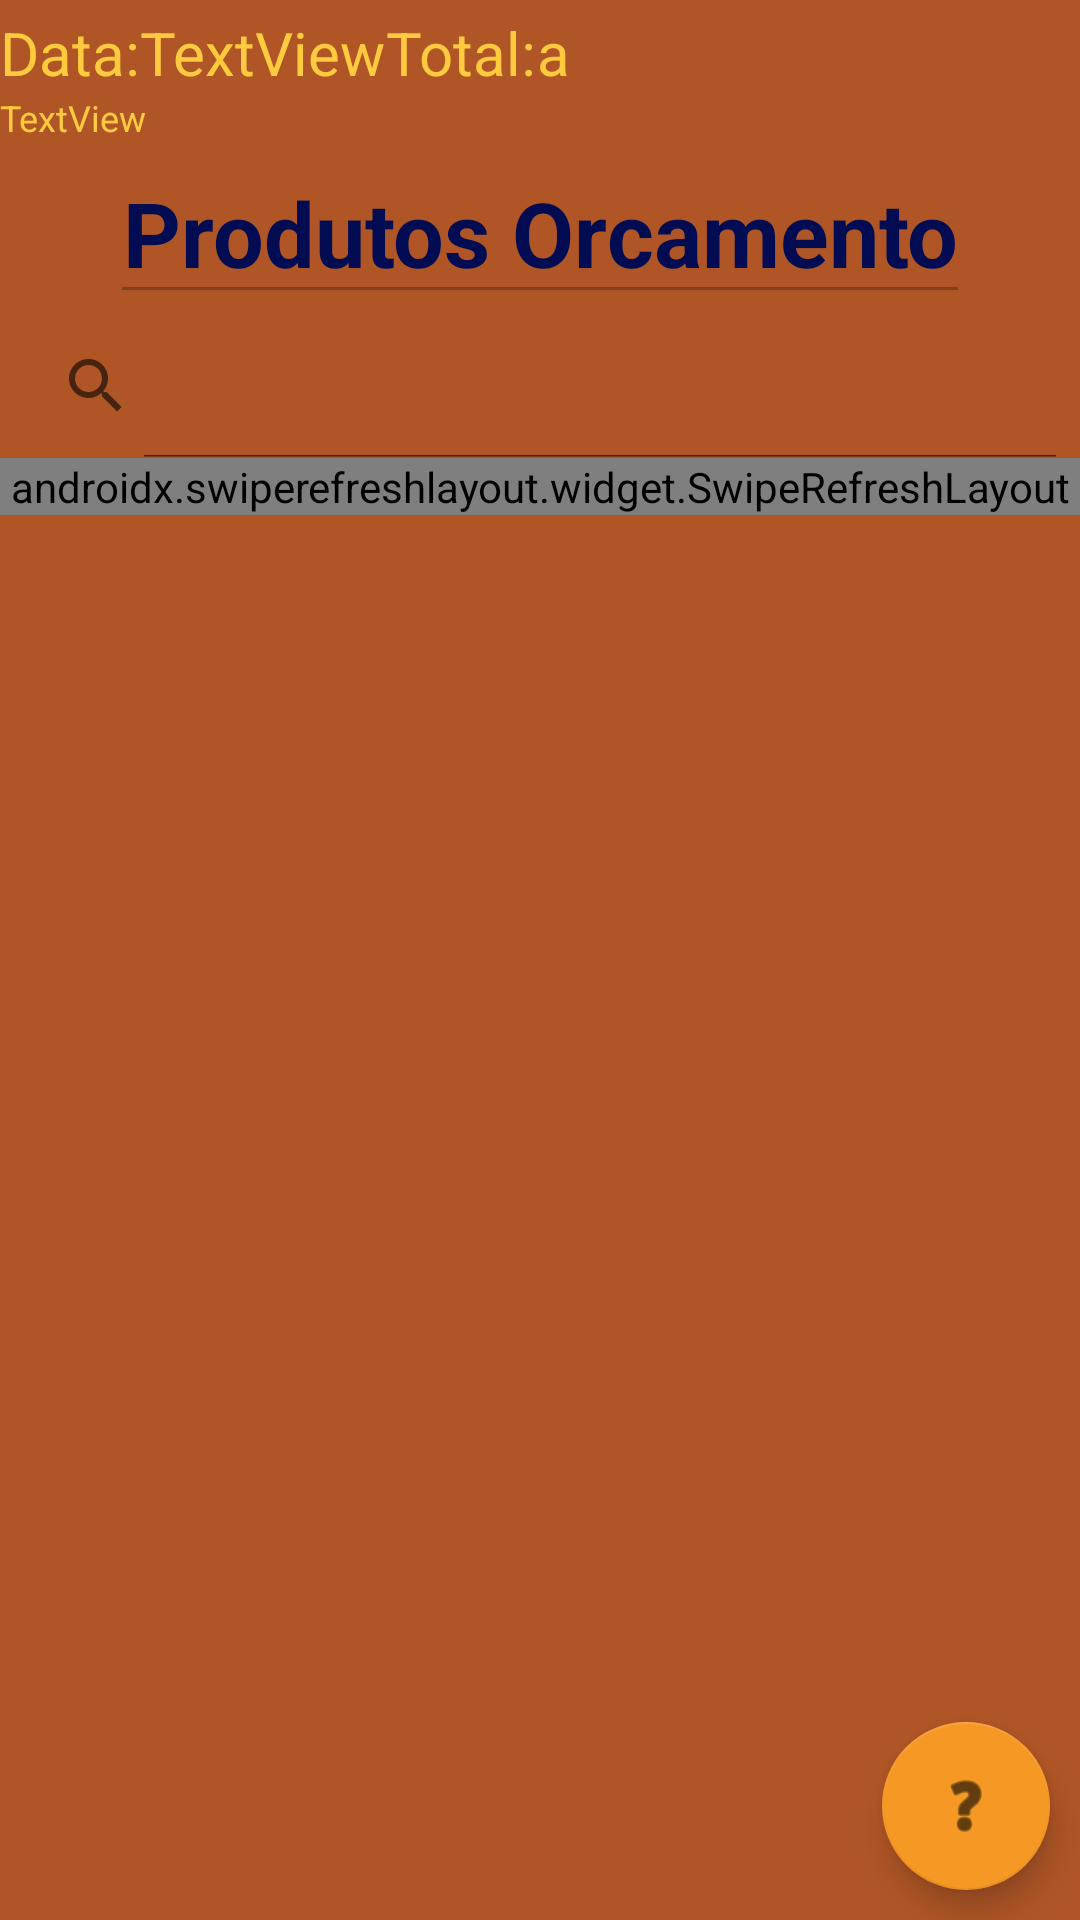

Screen size 1080px×1920px. Icon name, then its center in pixels as (x,y):
help: (966,1806)
